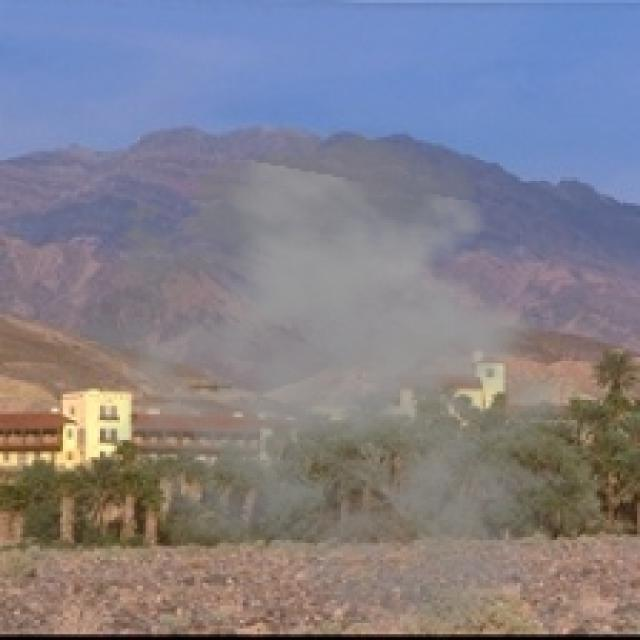Smoke: (57, 122, 629, 638)
